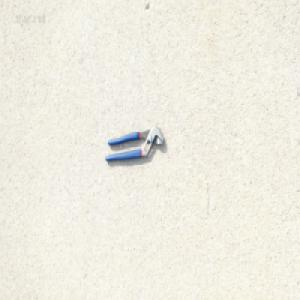Pliers: (104, 124, 164, 162)
